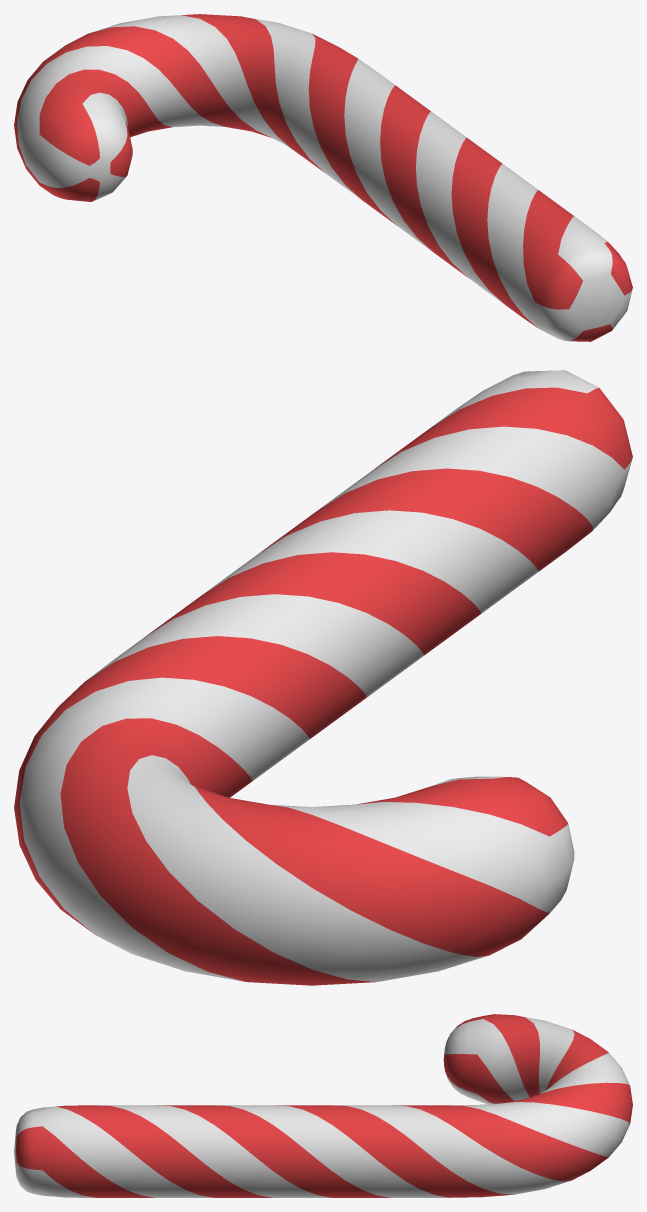
Rendered from candycane.glb.
3 views of the same model, one above another, from view 1: azimuth 30°, elevation 25°; view 2: azimuth 150°, elevation 25°; view 3: azimuth 270°, elevation 25° (orthographic). The views are drawn at different scales.
Visible parts, largest first — view 1: Candy; view 2: Candy; view 3: Candy.
Part boxes in pixels (x1,y1,x2,y2): Candy: (14,14,632,341); Candy: (14,370,632,985); Candy: (14,1014,632,1197).
Size of the model in its own units: 2.81 by 0.8397 by 5.6.
